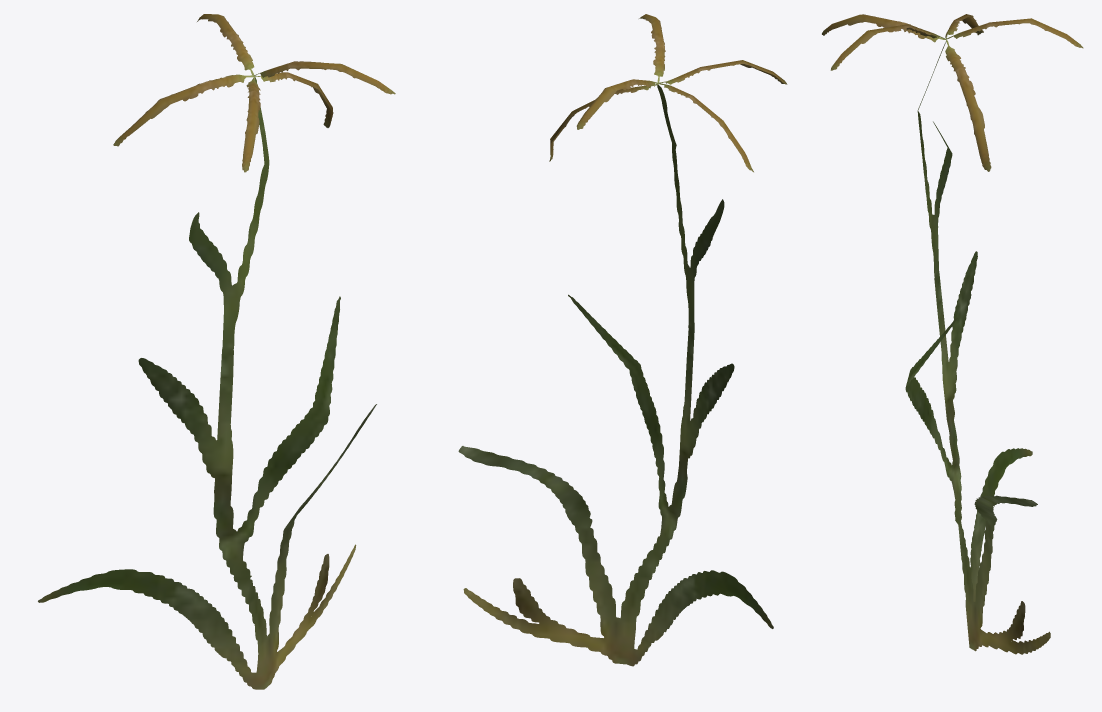
The picture shows the model from 3 angles, left to right: view 1: azimuth 30°, elevation 25°; view 2: azimuth 150°, elevation 25°; view 3: azimuth 270°, elevation 25°; orthographic projection. The views are drawn at different scales.
Visible parts, largest first — view 1: grass_bermuda_01__b_lod0; view 2: grass_bermuda_01__b_lod0; view 3: grass_bermuda_01__b_lod0.
Part boxes in pixels (<box>): grass_bermuda_01__b_lod0: <box>38,14,395,689</box>; grass_bermuda_01__b_lod0: <box>458,14,787,666</box>; grass_bermuda_01__b_lod0: <box>822,14,1083,654</box>.
Bounding box in the file's own units: 0.0766 × 0.1272 × 0.0493.
1 material, 1 textured.
